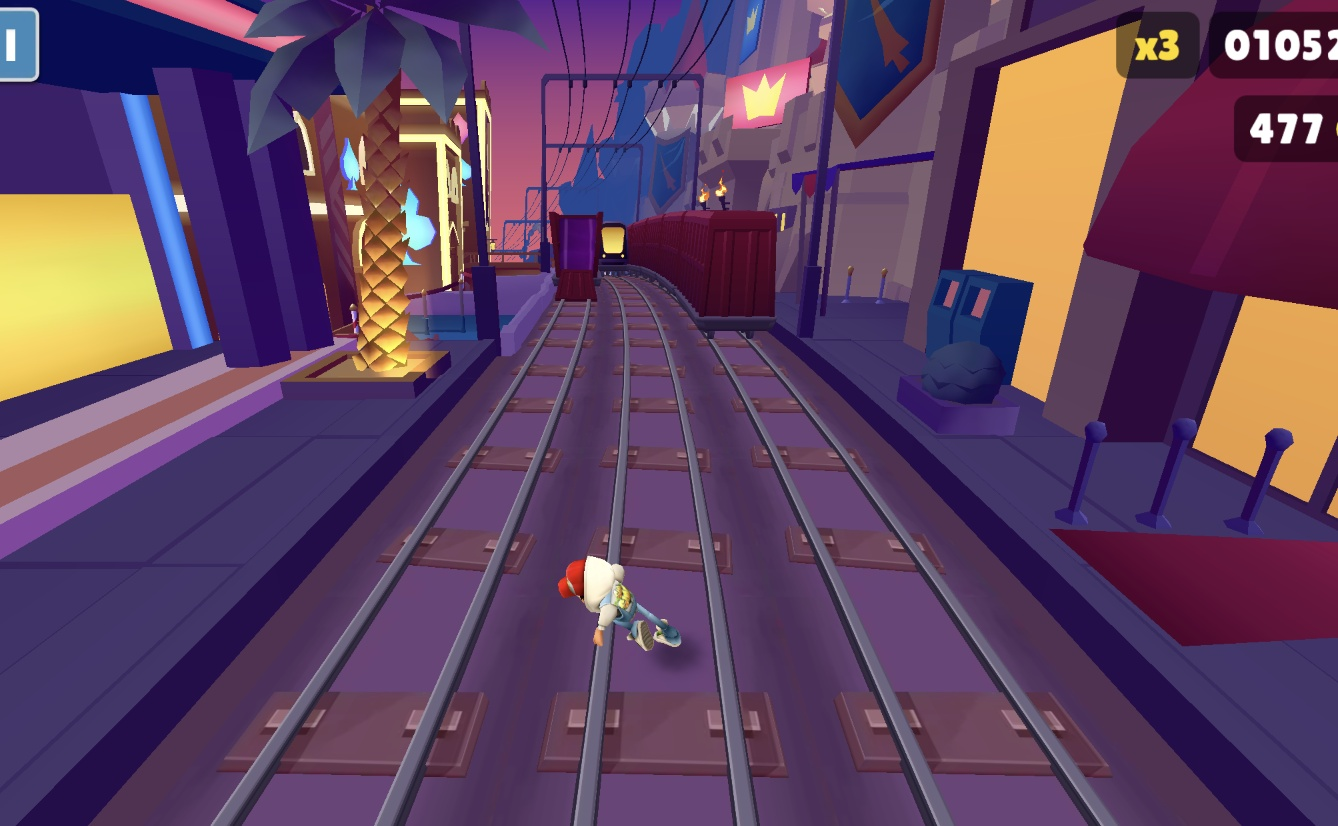train: (607, 222, 779, 324), (552, 222, 602, 307), (594, 247, 624, 289)
